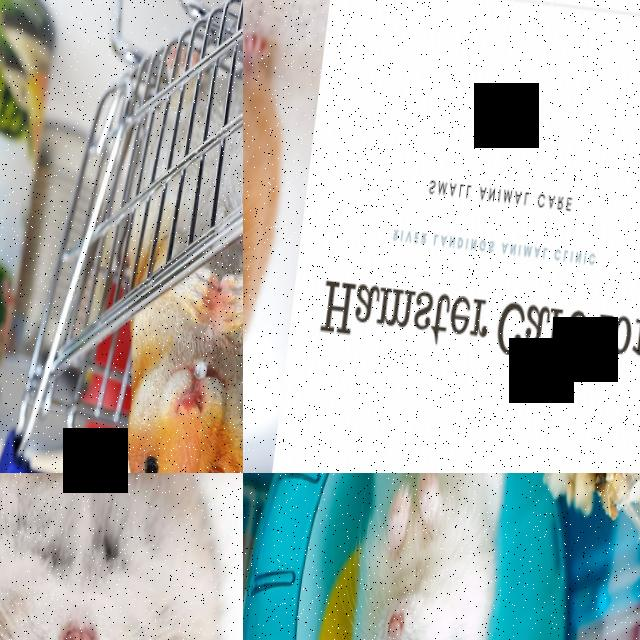hamster: (0, 473, 243, 640), (97, 215, 243, 473), (326, 473, 513, 640), (243, 13, 300, 473)
